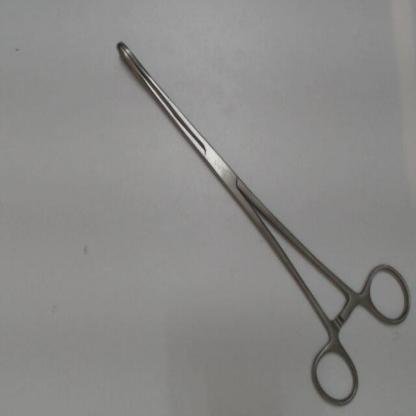Sponge Forceps: (106, 27, 415, 412)
